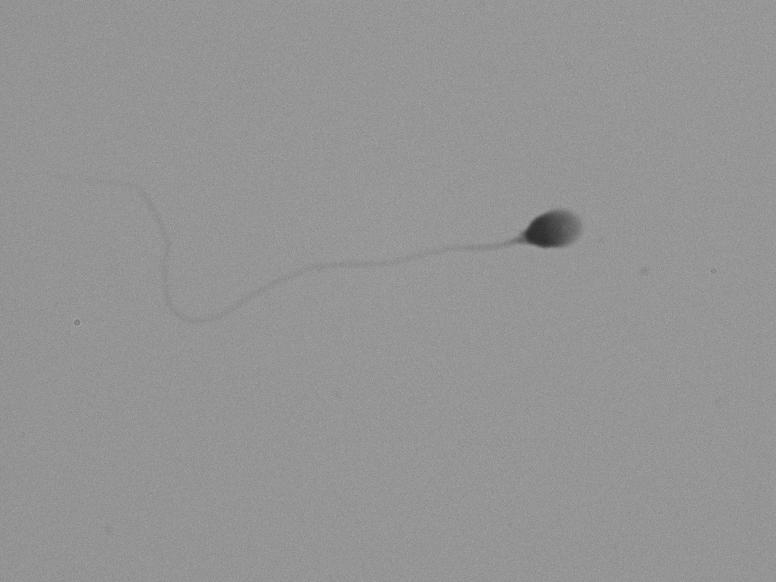Normal: (54, 121, 642, 379)
